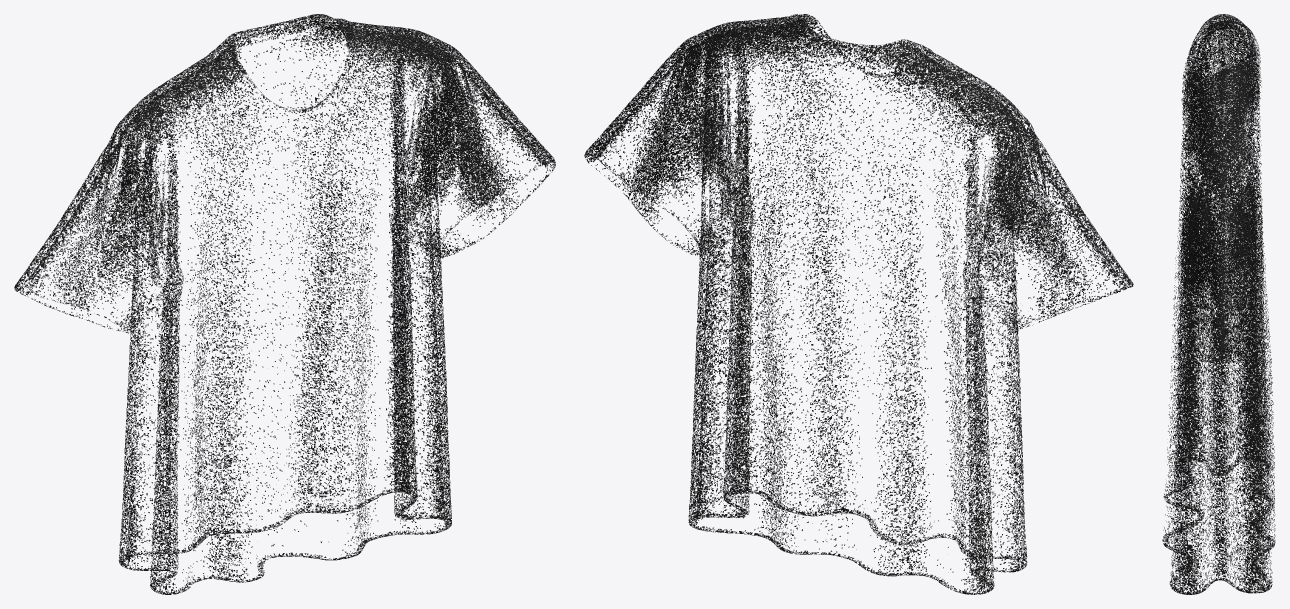
File: garment_smooth_black.glb
3 renders of one model, left to right at view 1: azimuth 30°, elevation 25°; view 2: azimuth 150°, elevation 25°; view 3: azimuth 270°, elevation 25°, orthographic. The views are drawn at different scales.
Parts seen in each view (by area): view 1: garment_pymeshlab_clean; view 2: garment_pymeshlab_clean; view 3: garment_pymeshlab_clean.
Part boxes in pixels (<box>): garment_pymeshlab_clean: <box>14,14,555,594</box>; garment_pymeshlab_clean: <box>584,14,1133,594</box>; garment_pymeshlab_clean: <box>1162,14,1275,594</box>.
Size of the model in its own units: 1.99 by 1.81 by 0.3833.
Materials: 1 (1 with a texture image).
